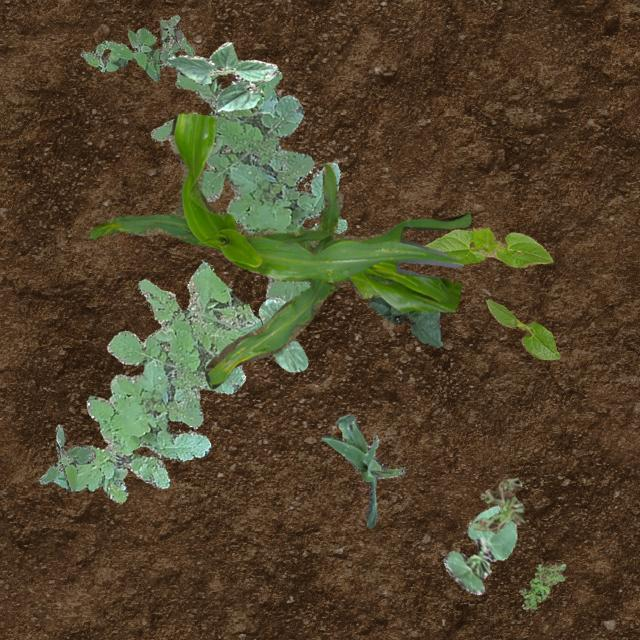crop: (88, 112, 470, 388), (320, 414, 404, 526), (166, 40, 276, 110), (442, 504, 516, 594), (422, 226, 552, 266), (484, 298, 558, 358), (368, 296, 442, 346), (258, 296, 306, 370)
weed: (52, 260, 260, 500), (150, 70, 346, 300), (80, 14, 194, 80), (37, 424, 94, 491), (472, 477, 524, 532), (518, 562, 564, 608)
